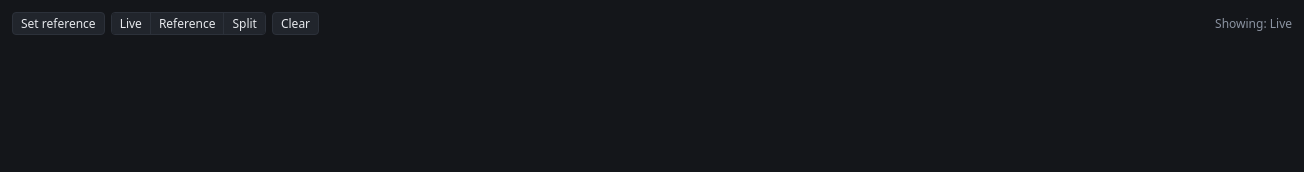
Test: CompareControls › A/B flip swaps the active mode instantly and labels which is shown
This screenshot has width=1304, height=172.
Expected: the text "Showing: Live" is shown, [1215,15,1292,32]
Click the radio button labelled "Reference".
click(188, 24)  # box [151,13,224,34]
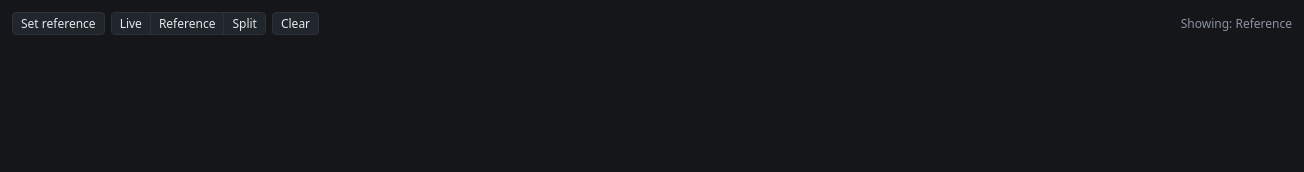
Expected: the text "Showing: Reference" is shown, [1181,15,1292,32]
Click the radio button labelled "Live".
click(131, 24)  # box [112,13,151,34]
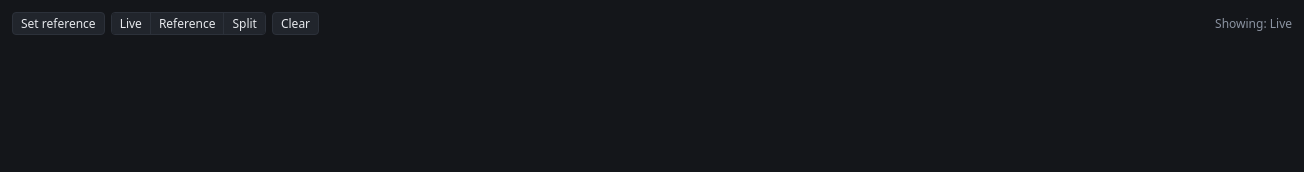
Expected: the text "Showing: Live" is shown, [1215,15,1292,32]
